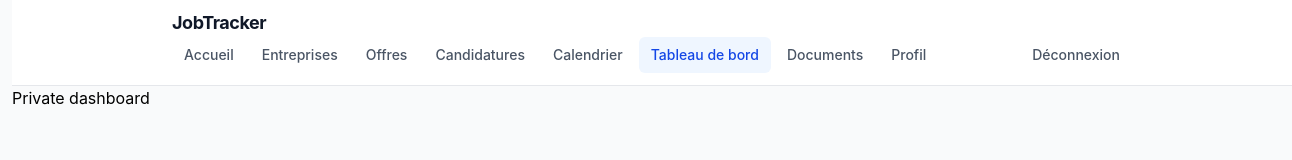
AppLayout navigation › navigates to the protected profile page
Expected: the text "Private dashboard" is shown, [12,88,150,108]
Click the link "Profil" at x=909, y=54, box [891,46,926,63]
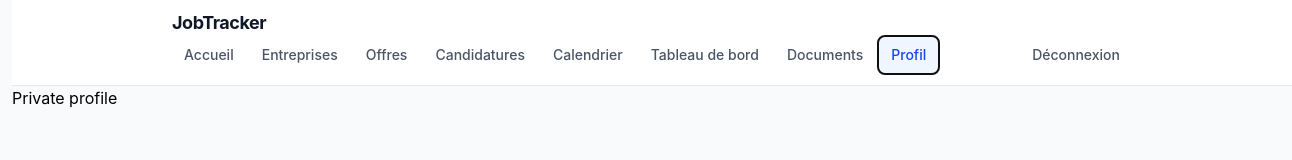
Expected: the text "Private profile" is shown, [12,88,117,108]
